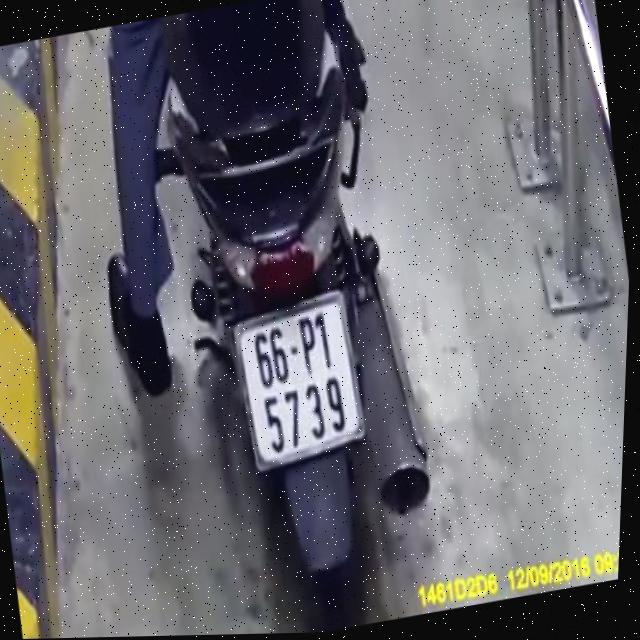motorcycle: (123, 0, 471, 624)
plate: (218, 287, 378, 479)
